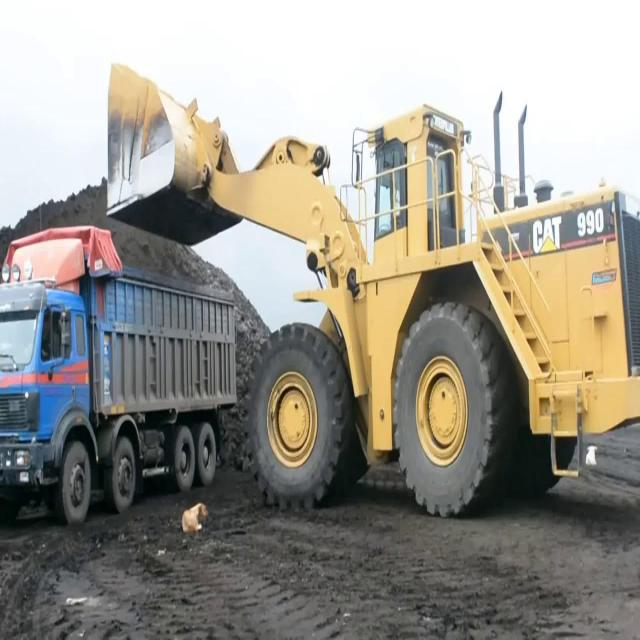Dump Truck: (0, 224, 238, 529)
Loader: (102, 52, 640, 513)
